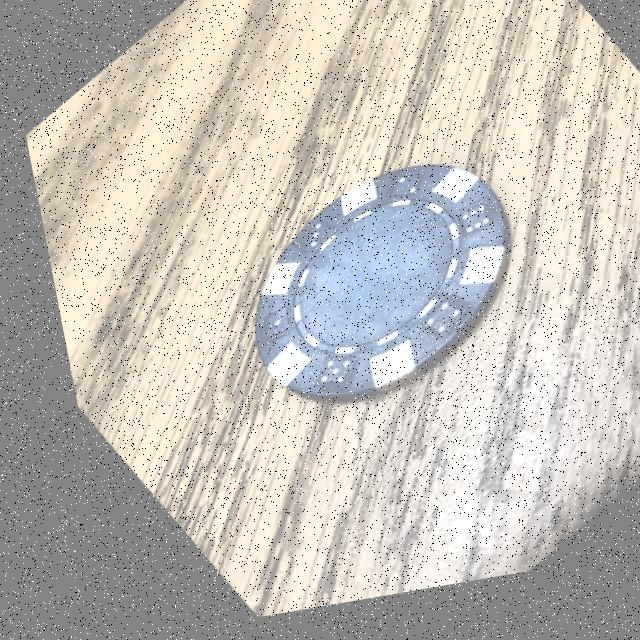Chip: (142, 94, 600, 501)
